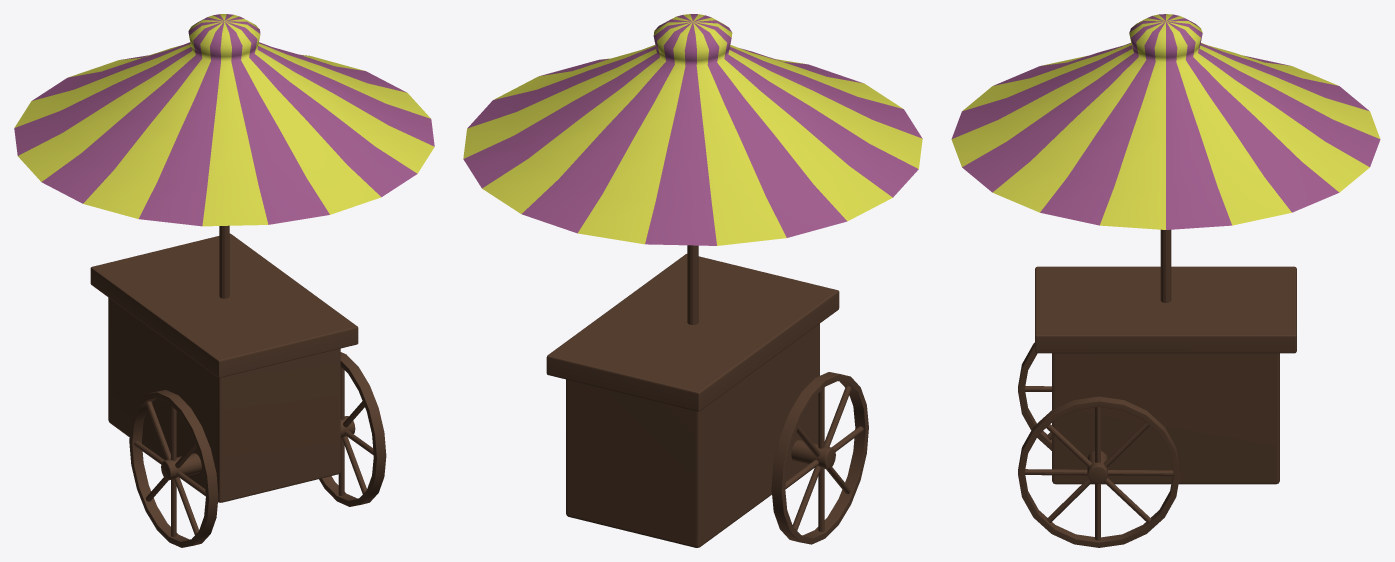
Rendered from glace.fbx.
3 renders of one model, left to right at view 1: azimuth 30°, elevation 25°; view 2: azimuth 150°, elevation 25°; view 3: azimuth 270°, elevation 25°, orthographic. The views are drawn at different scales.
Parts seen in each view (by area): view 1: glace; view 2: glace; view 3: glace.
Part boxes in pixels (x1,y1,x2,y2): glace: (14,14,434,547); glace: (463,14,922,547); glace: (951,14,1380,547).
Size of the model in its own units: 5.29 by 6.57 by 5.29.
